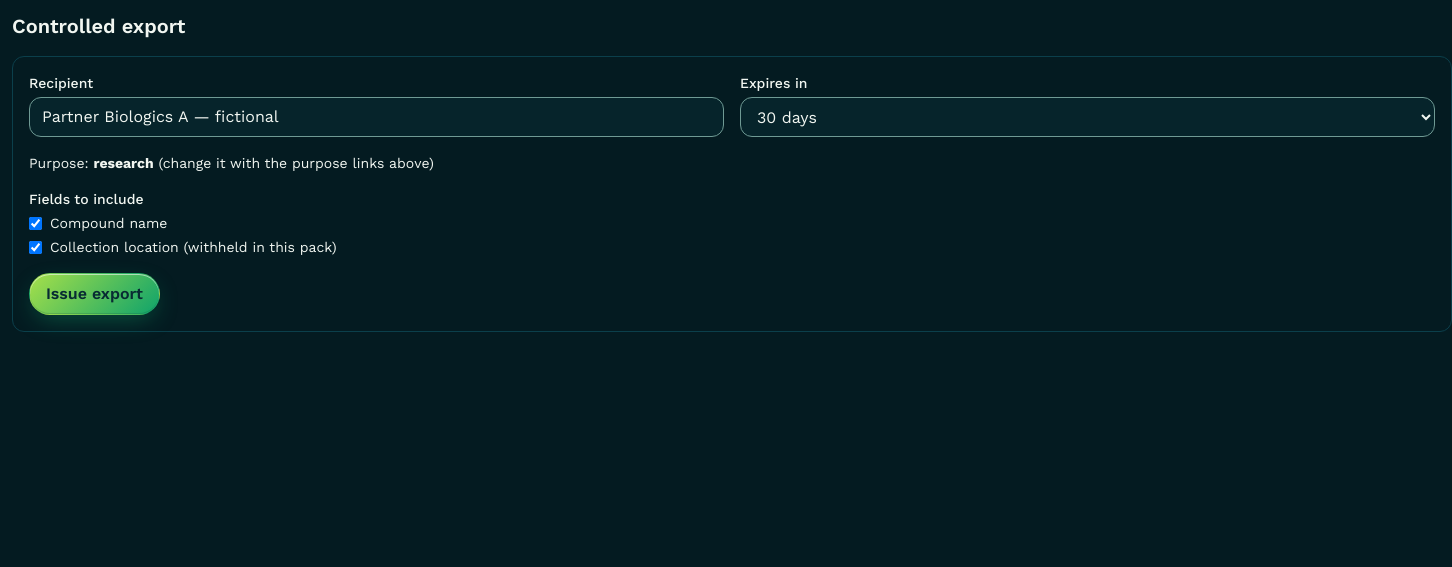
Test case: ExportForm › renders the export_held refusal with its reasons
What coordinates should you click on to do the following:
click the button "Issue export"
I would click on:
 (94, 294)
Its box is [29,273,160,315].
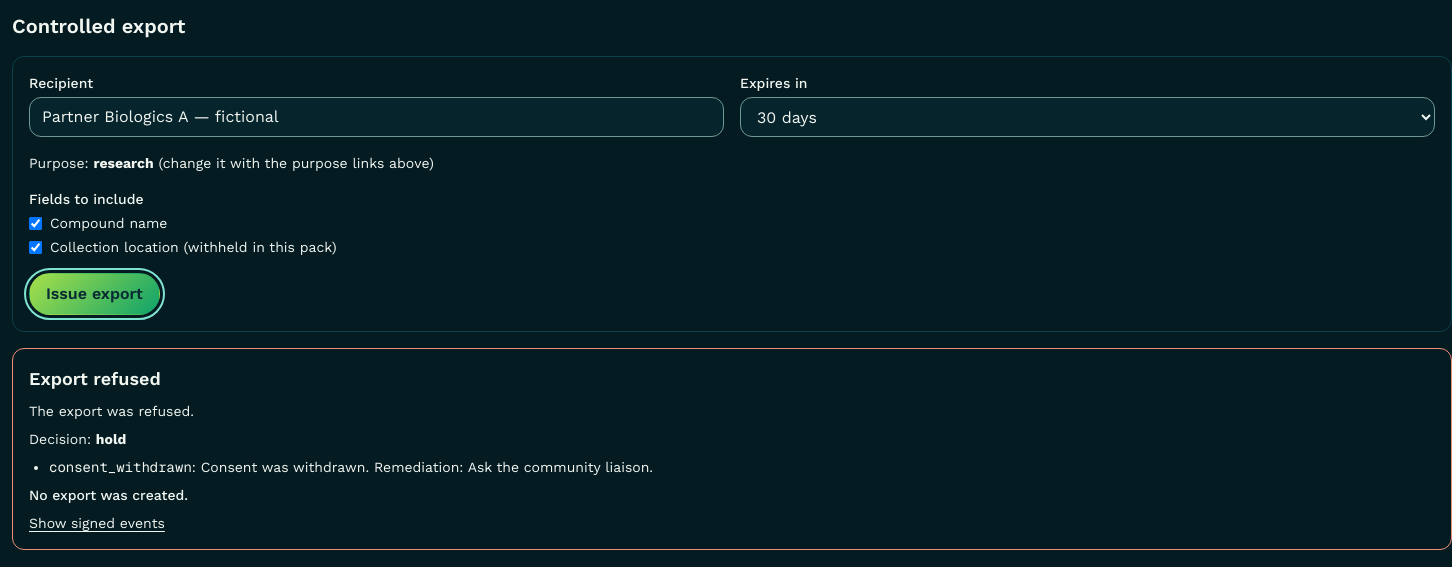
Expected: the message "Export refused" shows "consent_withdrawn", [49,458,192,476]
Expected: the message "Export refused" shows "Ask the community liaison.", [468,459,653,475]
Expected: the message "Export refused" shows "No export was created", [29,487,188,503]
